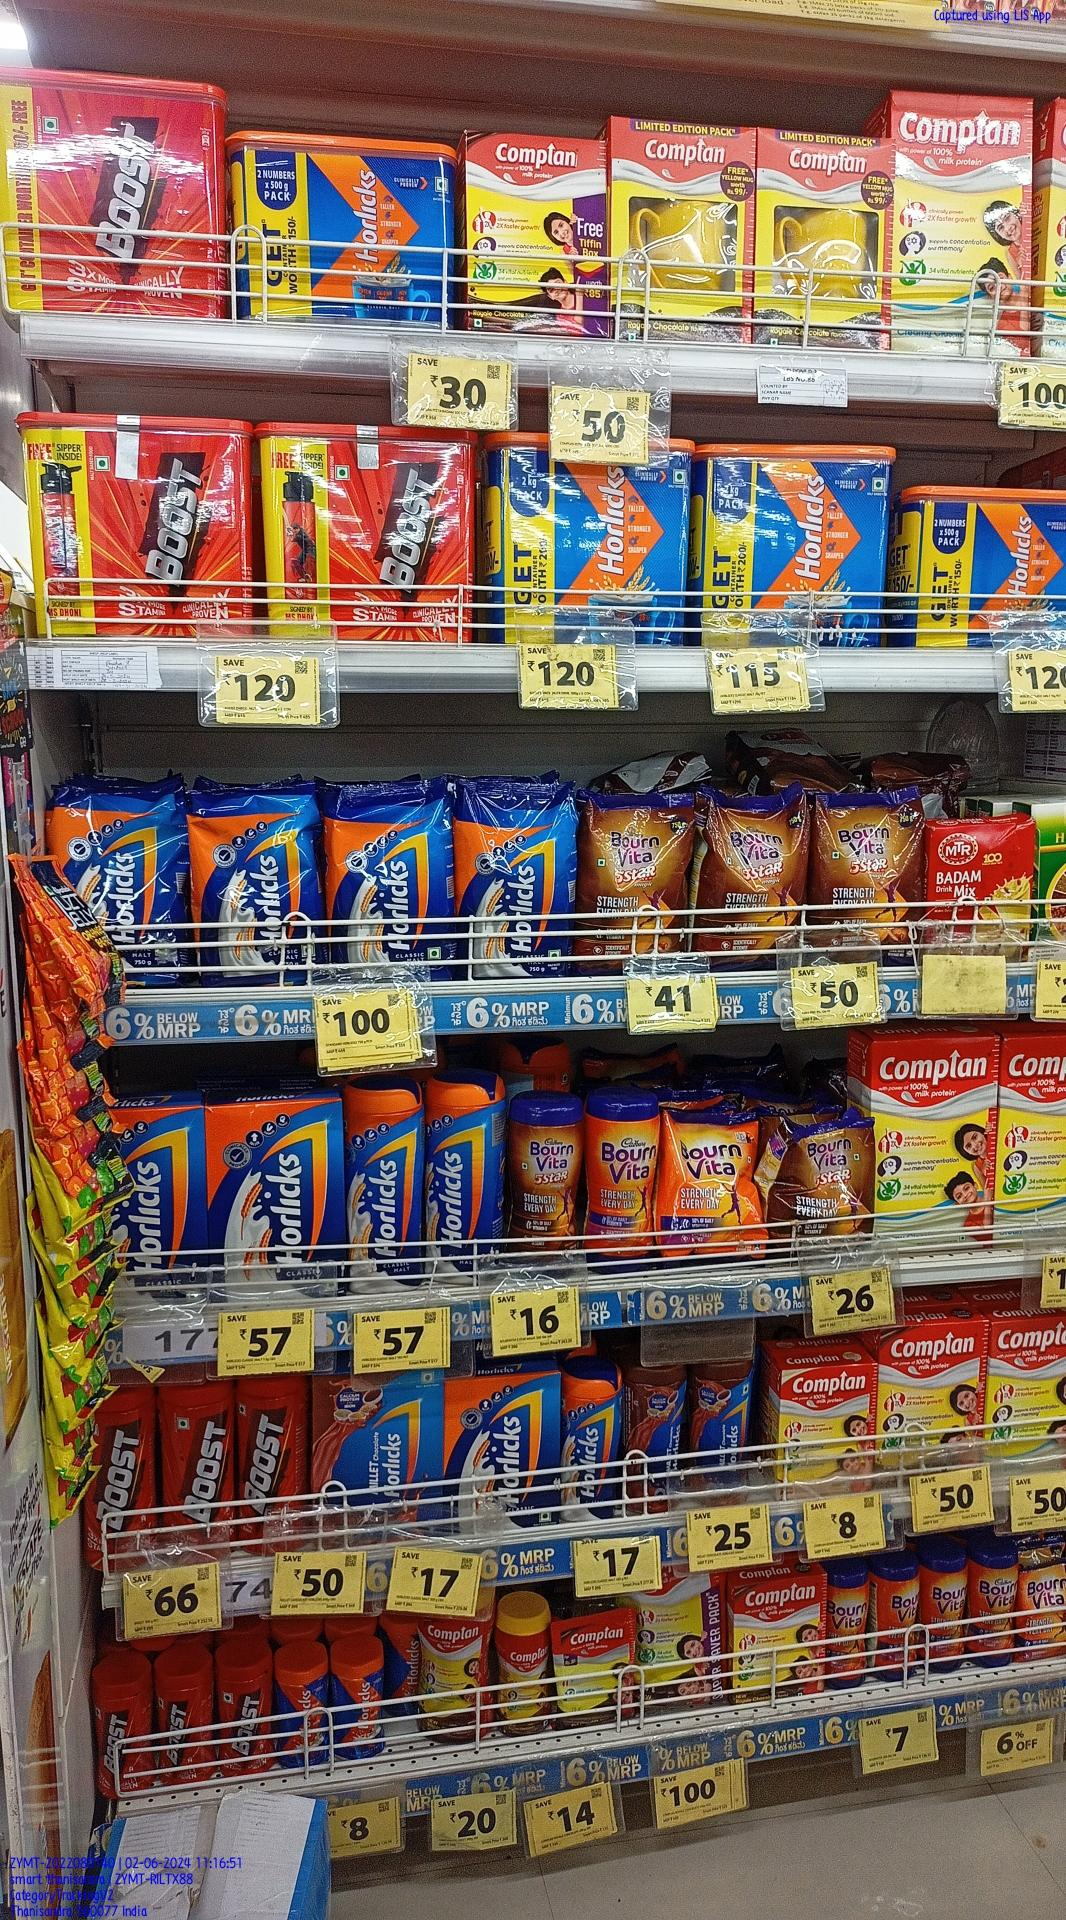BOURN_VITA_FIVE_STAR_MAGIC_500_G_JAR: (505, 1089, 584, 1272)
BOURN_VITA_FIVE_STAR_MAGIC_500_G_POUCH: (773, 1118, 874, 1253)
BOURN_VITA_FIVE_STAR_MAGIC_750_G_POUCH: (579, 789, 693, 975), (813, 791, 926, 969), (702, 795, 807, 974)
HORLICK_CLASSIC_MALT_500_G_JAR: (345, 1076, 421, 1289), (429, 1076, 500, 1278), (563, 1356, 621, 1520)
HORLICK_CLASSIC_MALT_500_G_PACK: (211, 1097, 337, 1294), (448, 1366, 559, 1530)
